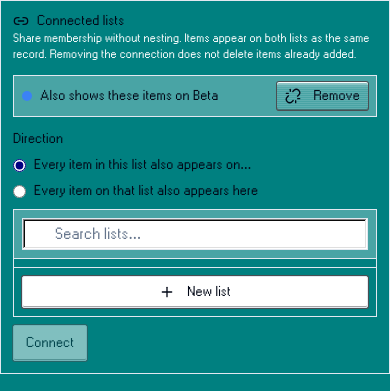
Test: ConnectedListsEditor › removes the link without deleting items already on both lists
Click the button with aria-label "Remove connection with Beta": {"x": 323, "y": 96} [277,82,368,110]
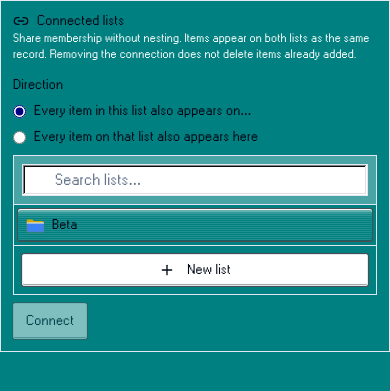
Expected: the text "Also shows these items on Beta" is gone
